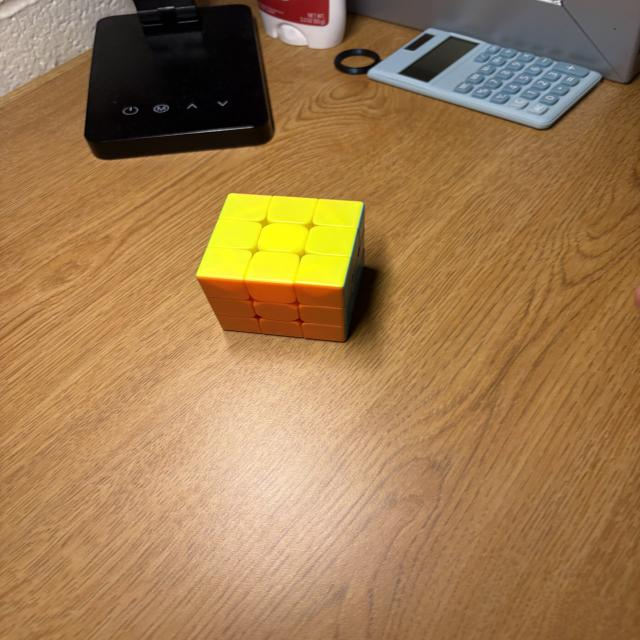Rubiks Cube: (194, 192, 365, 343)
